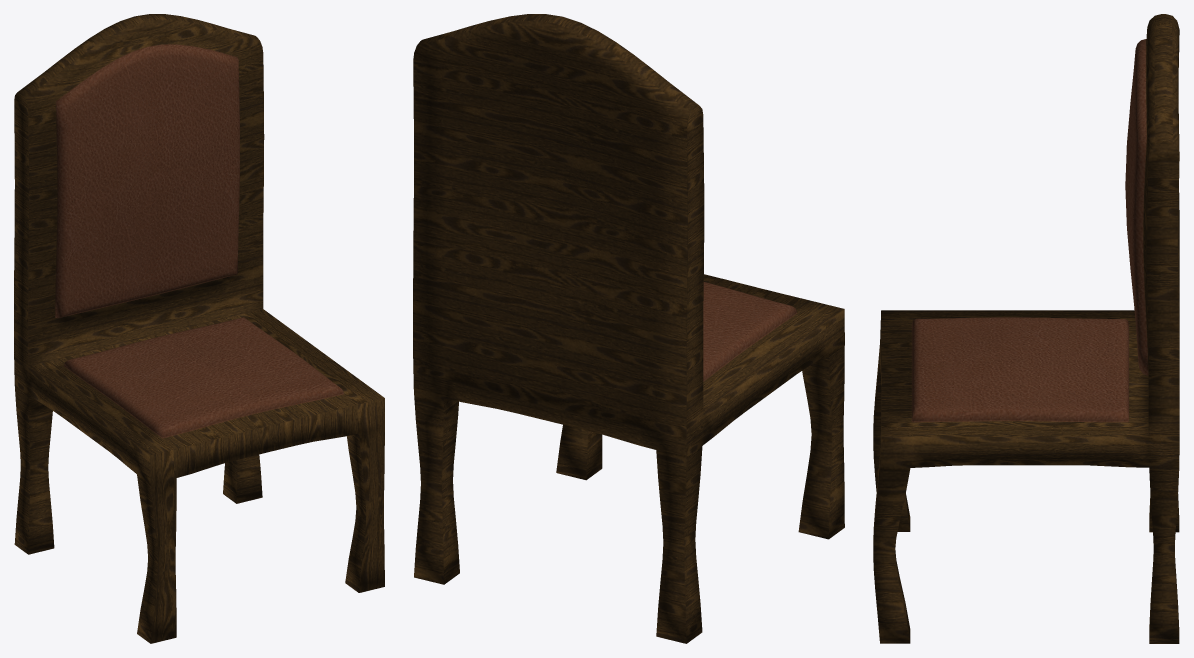
Rendered from Chair.obj.
3 renders of one model, left to right at view 1: azimuth 30°, elevation 25°; view 2: azimuth 150°, elevation 25°; view 3: azimuth 270°, elevation 25°, orthographic. The views are drawn at different scales.
Parts seen in each view (by area): view 1: Chair; view 2: Chair; view 3: Chair.
Part boxes in pixels (box(x1,y1,x2,y2)): Chair: box(14, 14, 384, 643); Chair: box(413, 14, 844, 643); Chair: box(873, 14, 1179, 643).
Size of the model in its own units: 0.5742 by 1.18 by 0.5895.
Materials: 1 (1 with a texture image).
